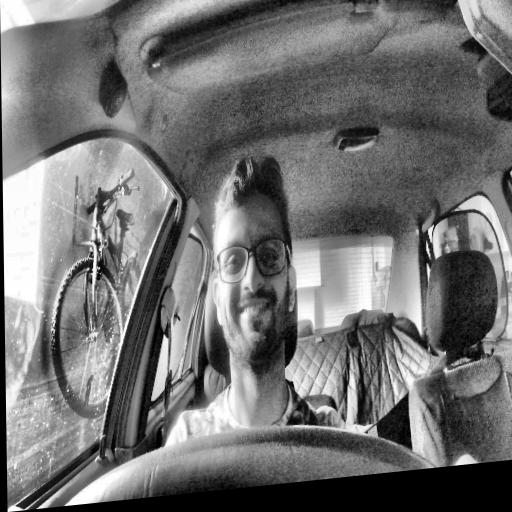awake: (210, 150, 299, 383)
